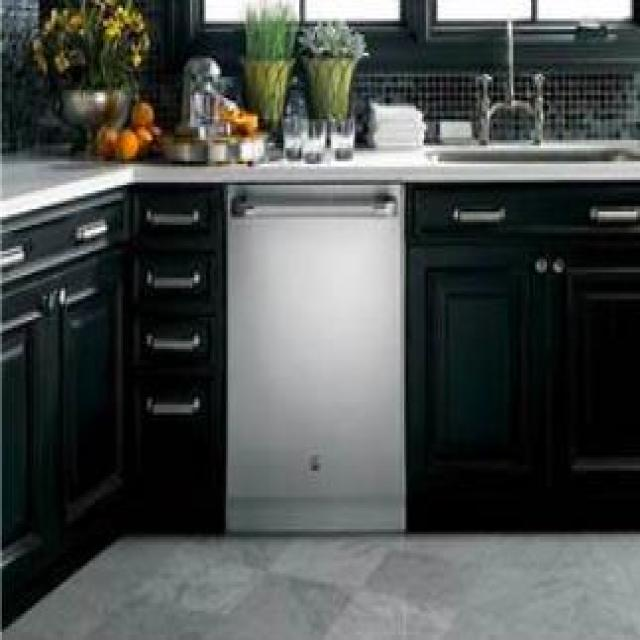dishwasher: (220, 180, 404, 531)
